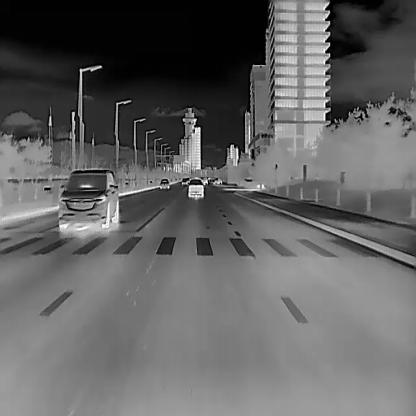car: (57, 168, 119, 229), (186, 178, 204, 198), (160, 177, 168, 189)
